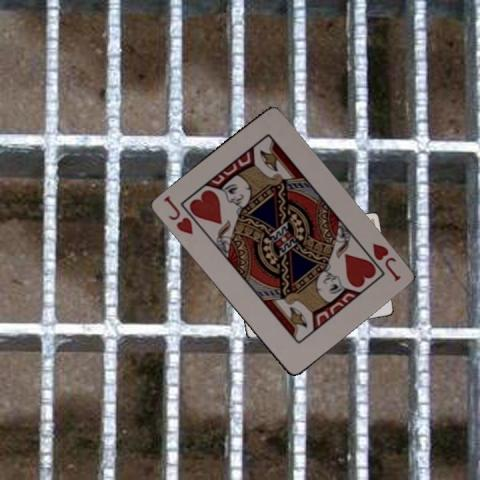Jh: (159, 193, 195, 236), (369, 240, 402, 283)
